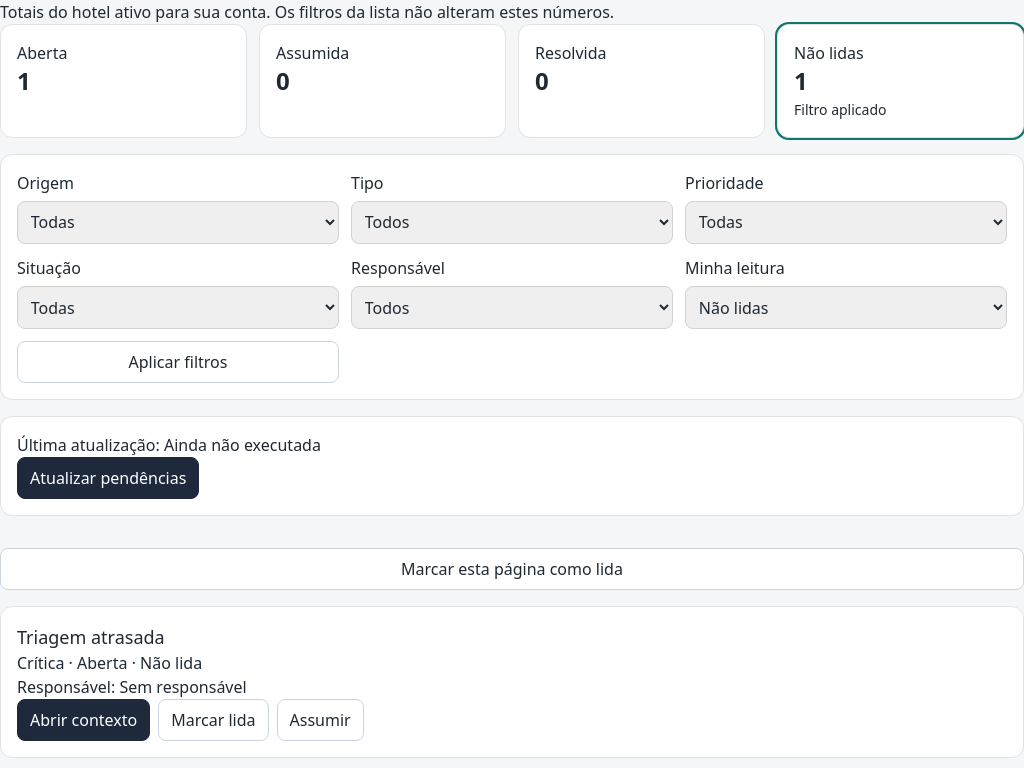
Scenario: ler na fila não lida oferece acesso à leitura de destino
Click the button "Marcar esta página como lida" at {"x": 512, "y": 569}, box [0,548,1023,590]
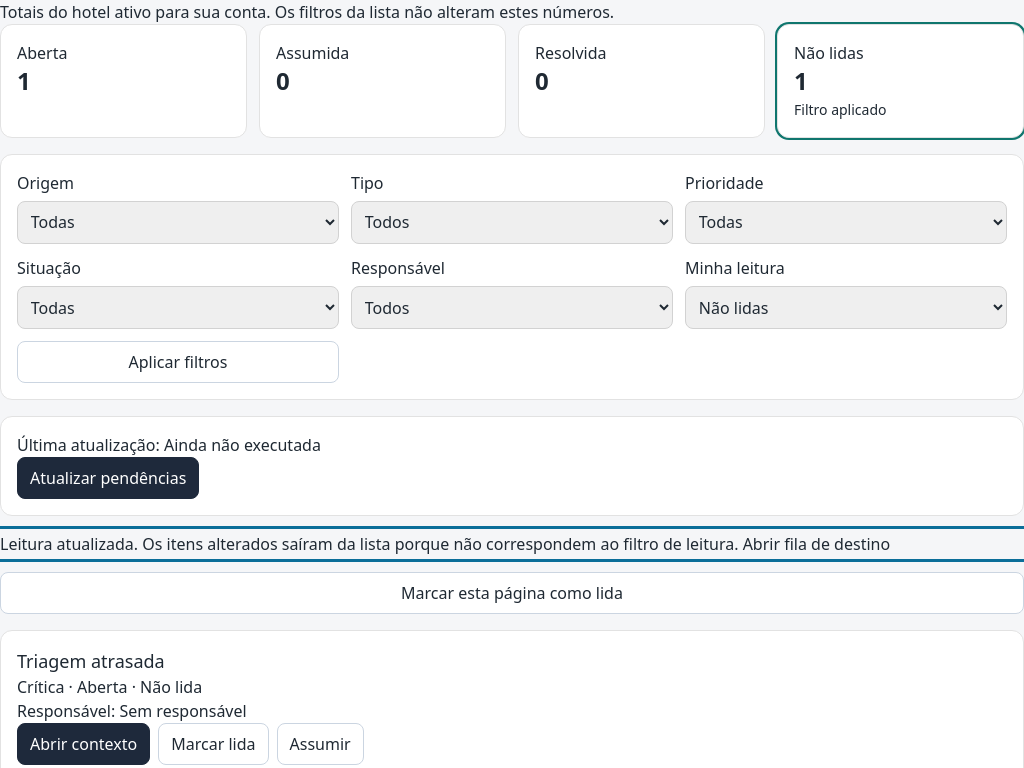
Check: the message shows "filtro de leitura", box [0,533,738,555]
